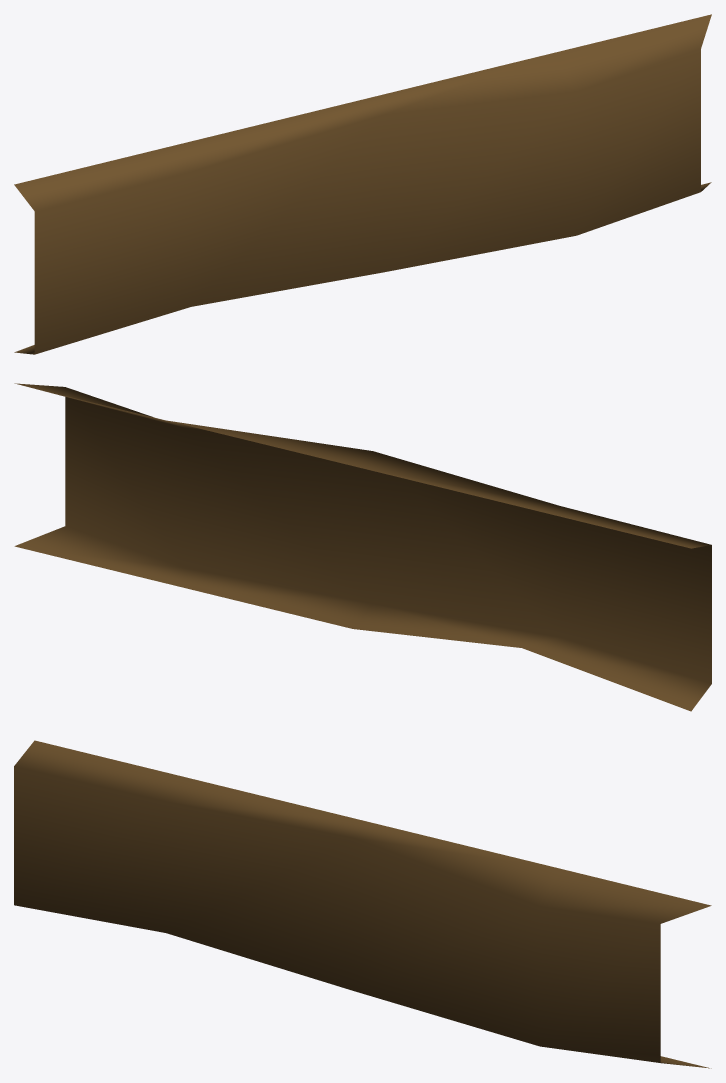
The model's file is Trim_InnerCorner_R_Base.fbx.
3 renders of one model, top to bottom at view 1: azimuth 30°, elevation 25°; view 2: azimuth 150°, elevation 25°; view 3: azimuth 330°, elevation 25°, orthographic. The views are drawn at different scales.
Parts seen in each view (by area): view 1: Trim_InnerCorner_R_01; view 2: Trim_InnerCorner_R_01; view 3: Trim_InnerCorner_R_01.
Boxes of the visible parts, x1,y1,x2,y2 form: Trim_InnerCorner_R_01: (14,14,711,354); Trim_InnerCorner_R_01: (14,383,711,711); Trim_InnerCorner_R_01: (14,740,711,1068).
Bounding box in the file's own units: 100 × 22.99 × 5.22.
